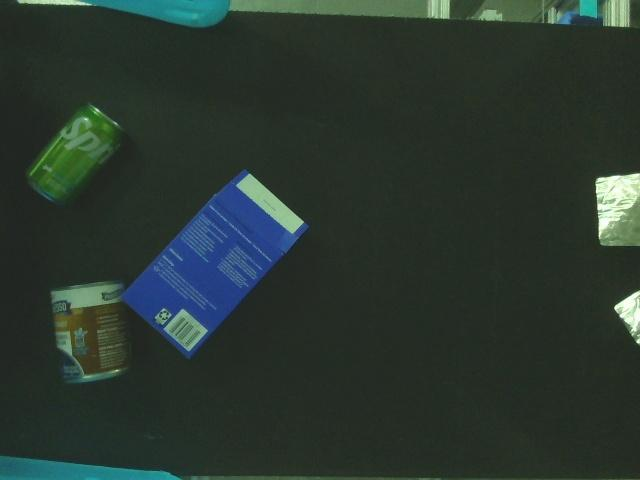cardboard: (116, 166, 315, 364)
metal: (21, 99, 132, 213), (46, 277, 131, 389)
plastic: (592, 168, 640, 252), (610, 282, 640, 353)
